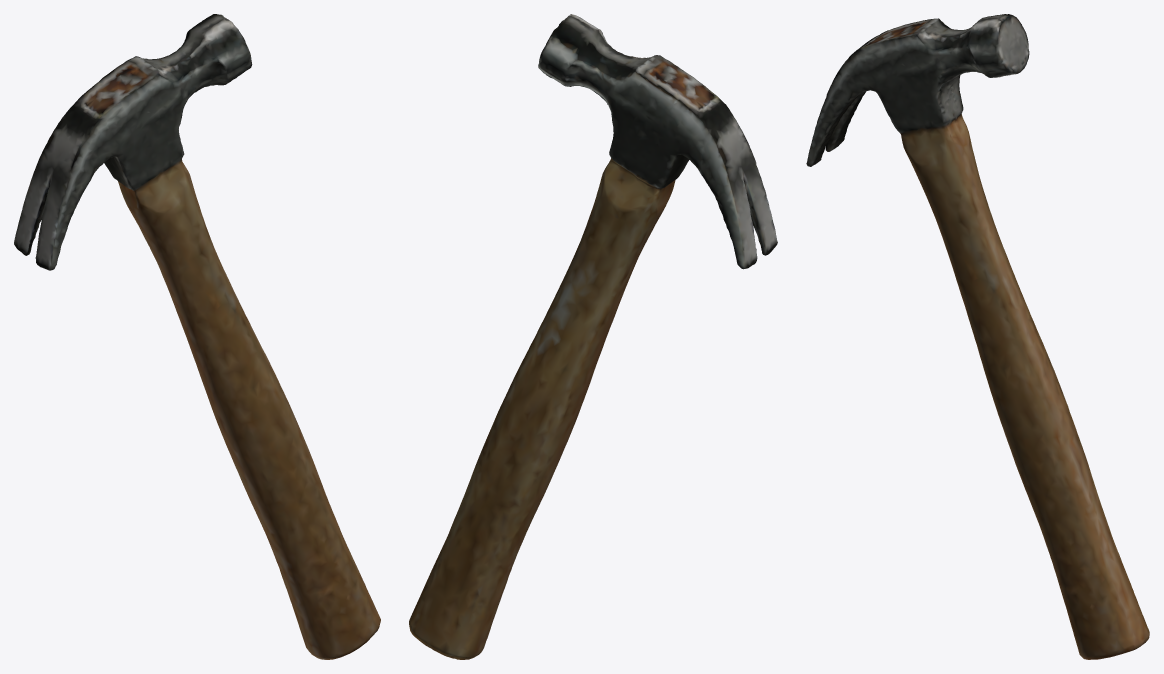
3 views of the same model, side by side, from view 1: azimuth 30°, elevation 25°; view 2: azimuth 150°, elevation 25°; view 3: azimuth 330°, elevation 25° (orthographic). The views are drawn at different scales.
Bounding box in the file's own units: 0.1822 × 0.3327 × 0.0329.
